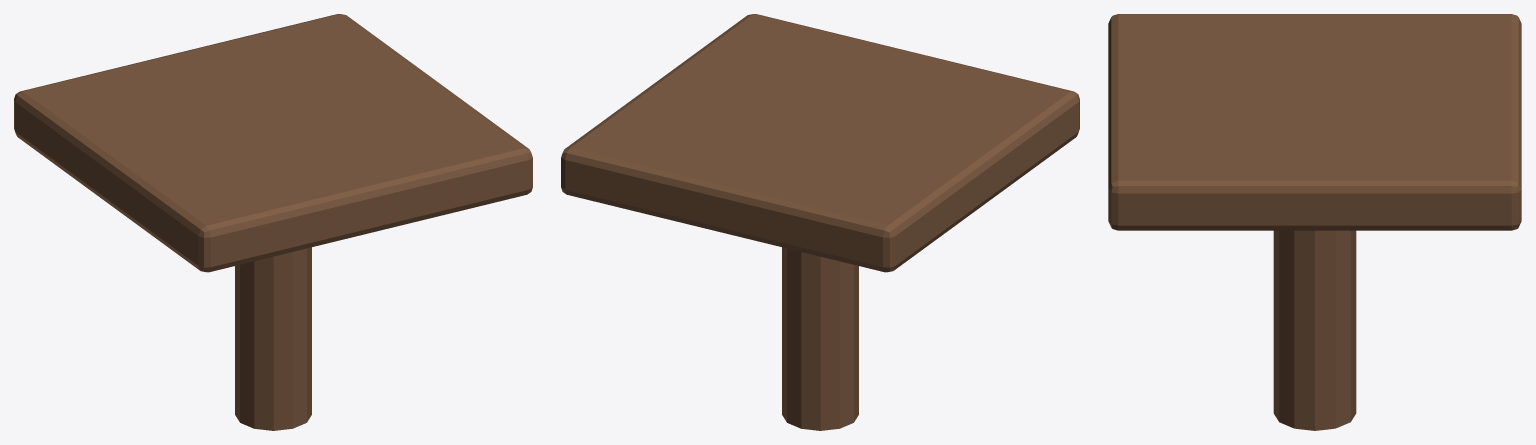
File: SmallTable_01.fbx
3 views of the same model, side by side, from view 1: azimuth 30°, elevation 25°; view 2: azimuth 150°, elevation 25°; view 3: azimuth 270°, elevation 25° (orthographic). The views are drawn at different scales.
Parts seen in each view (by area): view 1: Top.001, Pedestal; view 2: Top.001, Pedestal; view 3: Top.001, Pedestal.
Boxes of the visible parts, left/top/right/bottom form: Top.001: left=14, top=14, right=532, bottom=272; Pedestal: left=235, top=247, right=311, bottom=430; Top.001: left=561, top=14, right=1079, bottom=272; Pedestal: left=782, top=247, right=858, bottom=430; Top.001: left=1108, top=14, right=1521, bottom=230; Pedestal: left=1273, top=230, right=1356, bottom=430.
Size of the model in its own units: 0.9 by 0.76 by 0.9.
